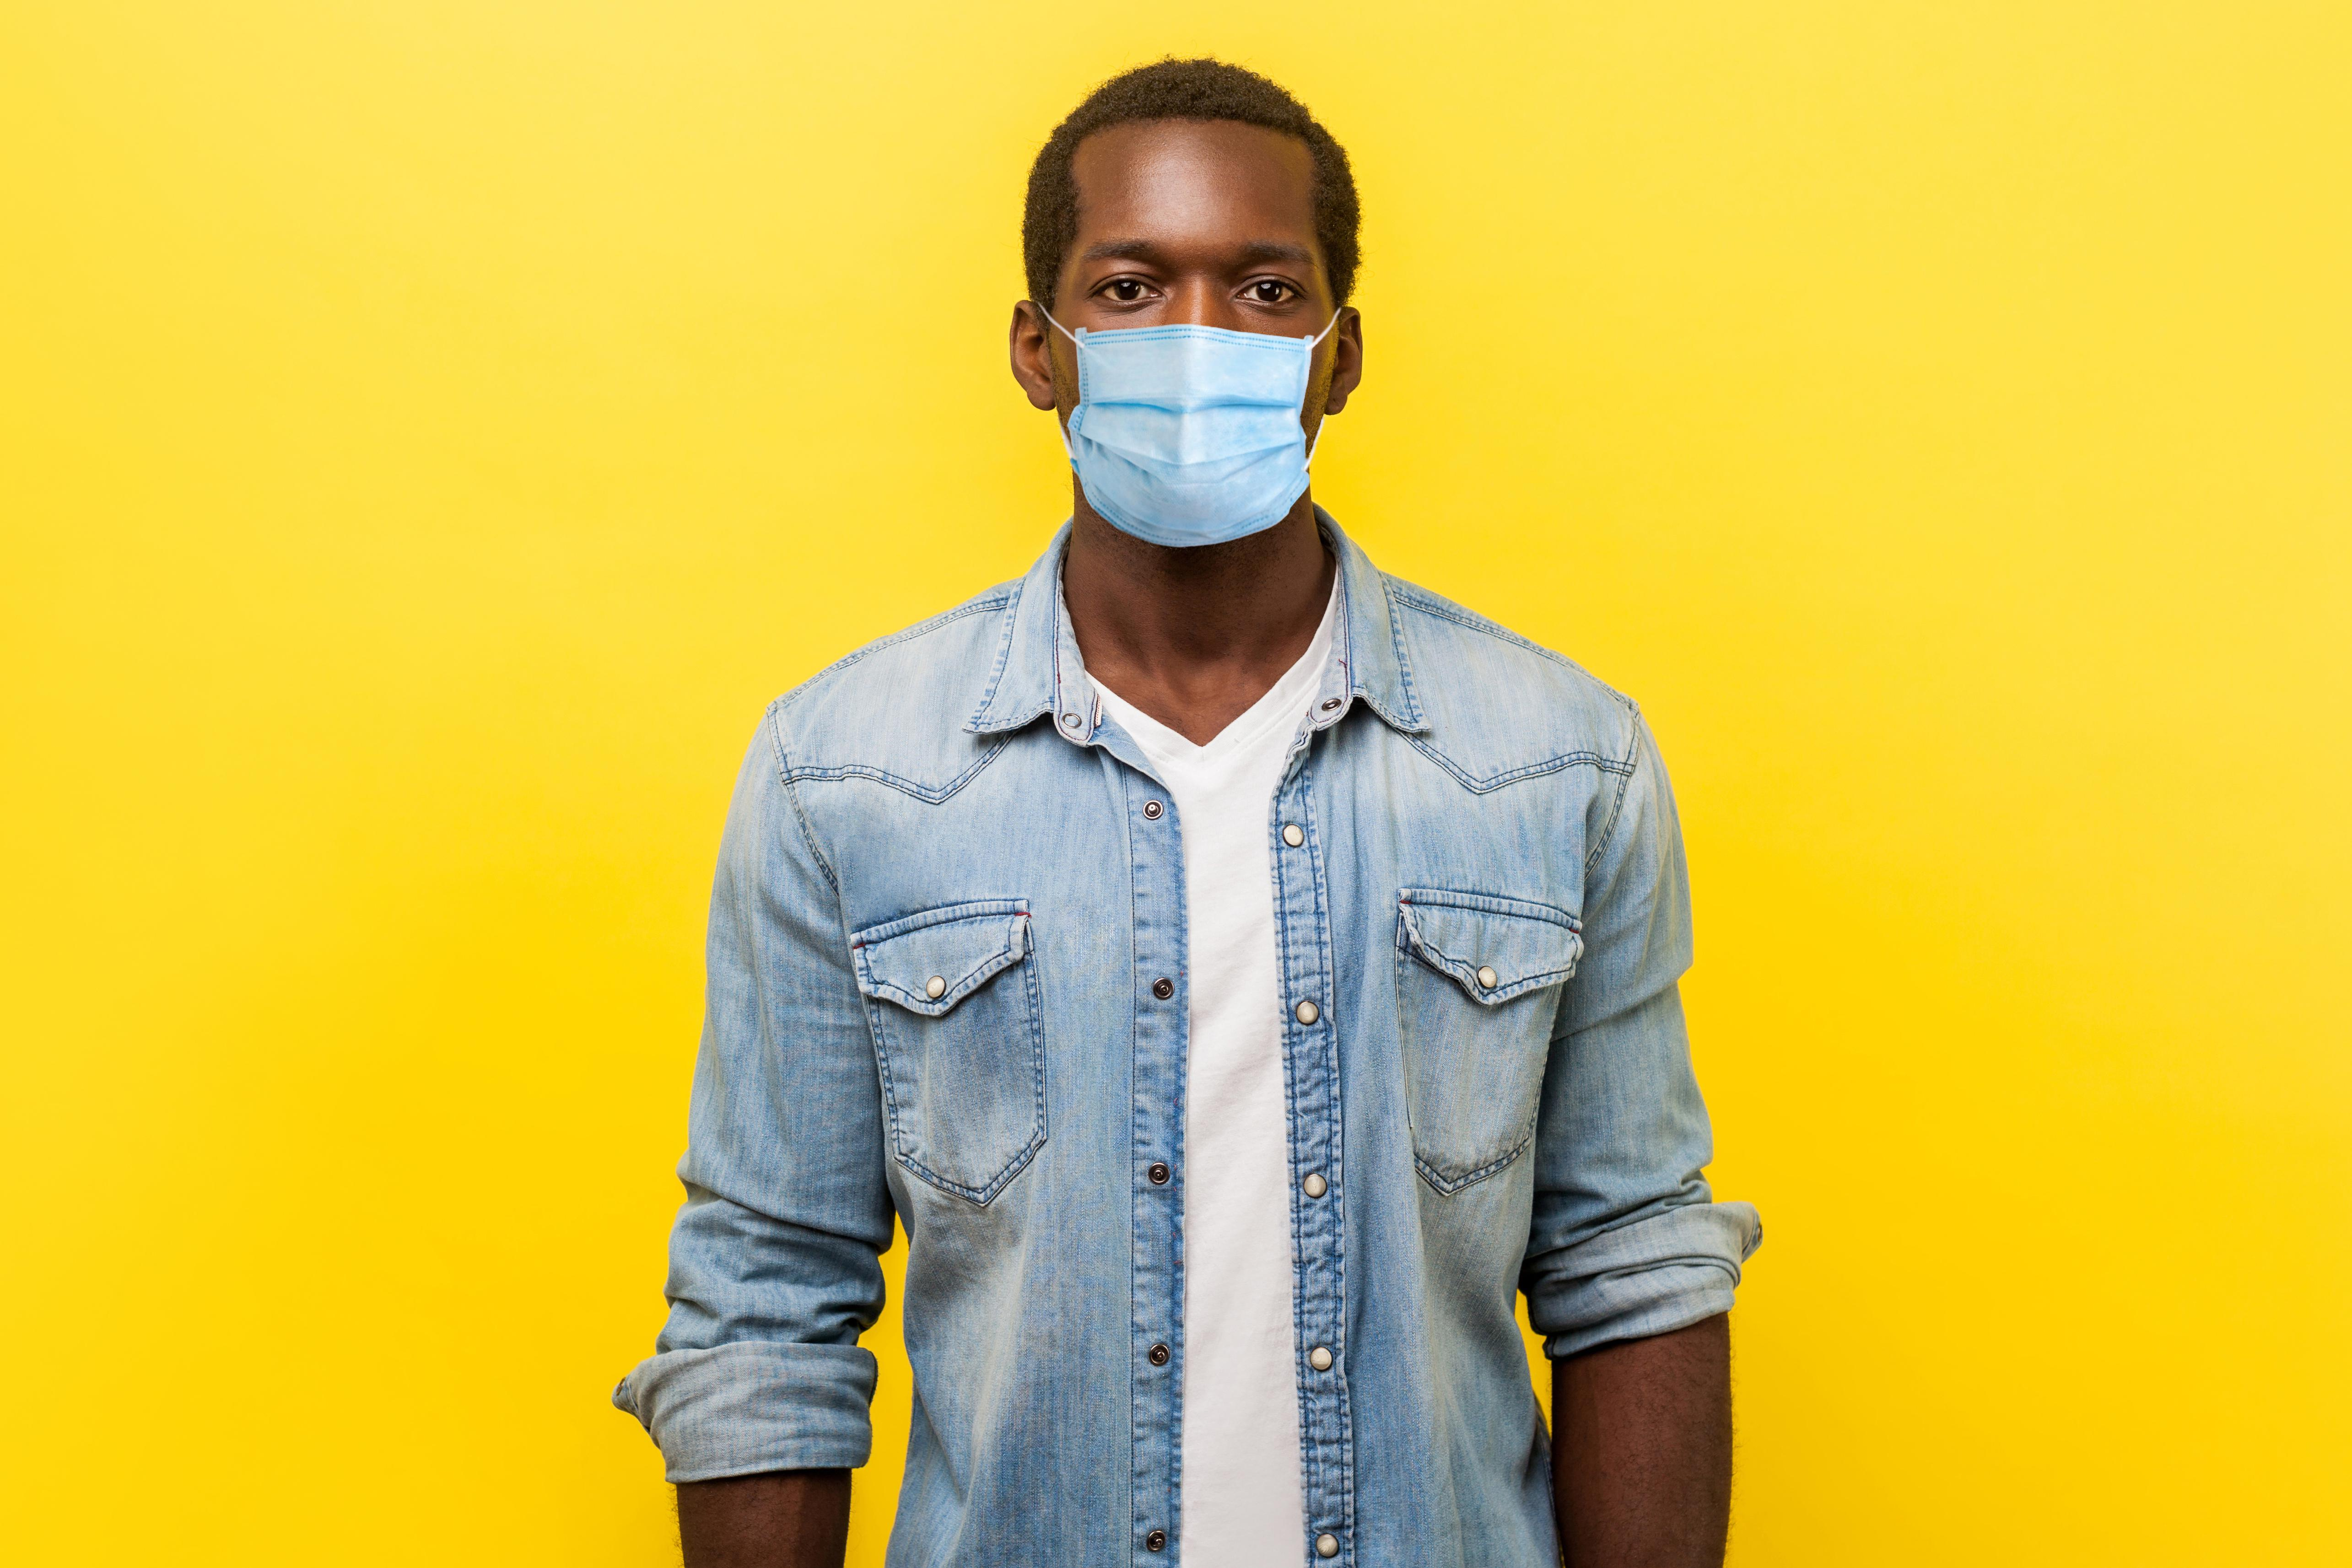Mask: (1048, 320, 1347, 558)
